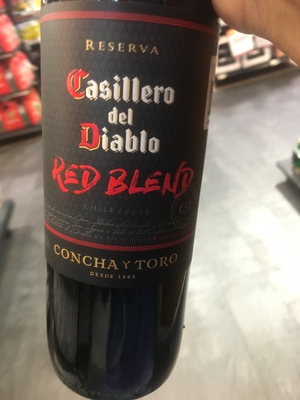casillero del diablo red blend: (35, 5, 225, 383)
